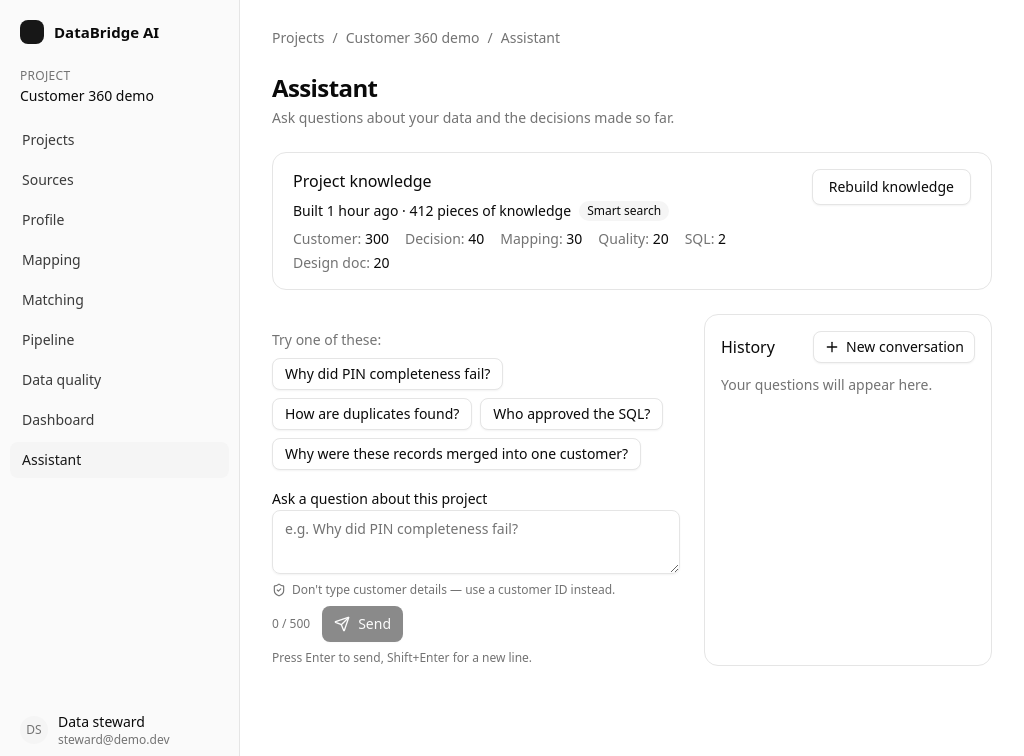
it: assistant: asking › sends the question with Enter, shows the answer with linked markers and sources
The image size is (1024, 756).
Type "Why did PIN completeness fail?" into the text box labelled "Ask a question about this project" at (476, 542), box [272,510,680,574]
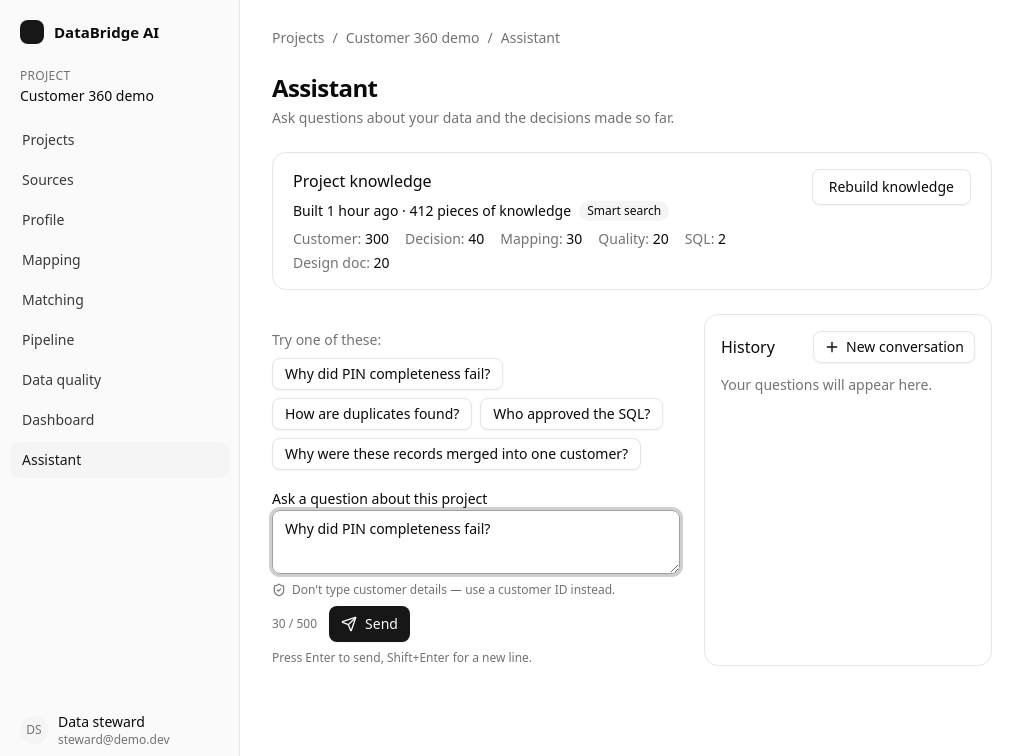
Expected: the text "30 / 500" is shown, [272,616,317,632]
Press Enter
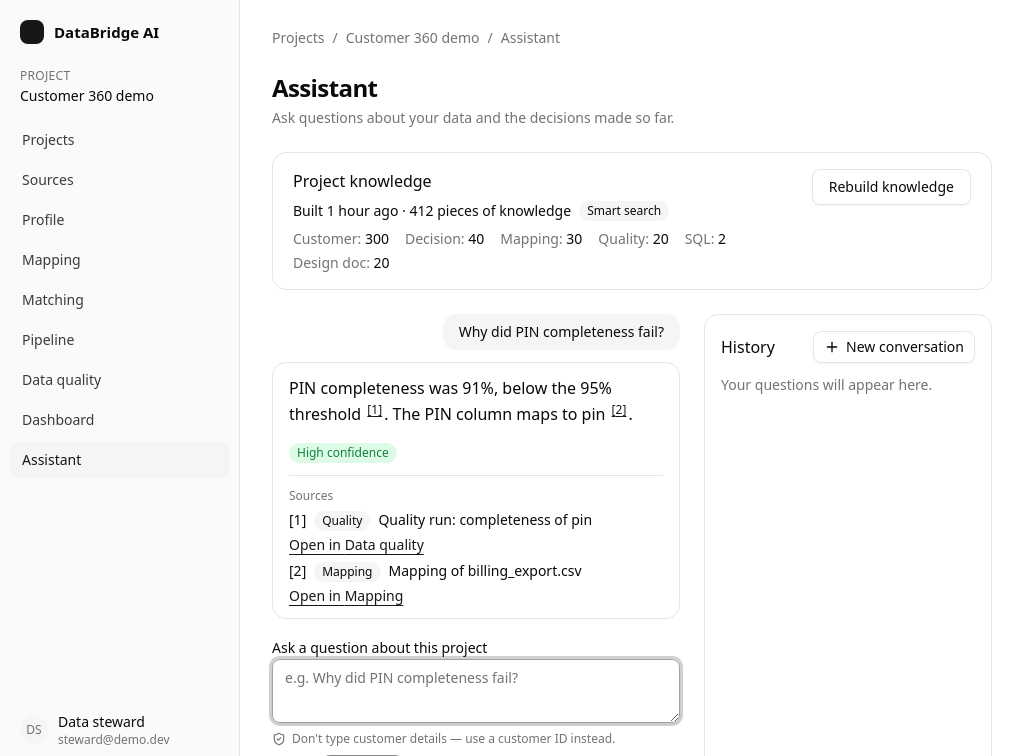
Expected: the text box labelled "Ask a question about this project" is empty, [272,659,680,723]
Expected: the text "High confidence" is shown, [289,443,397,463]
Expected: the text "Quality" is shown, [314,511,370,531]
